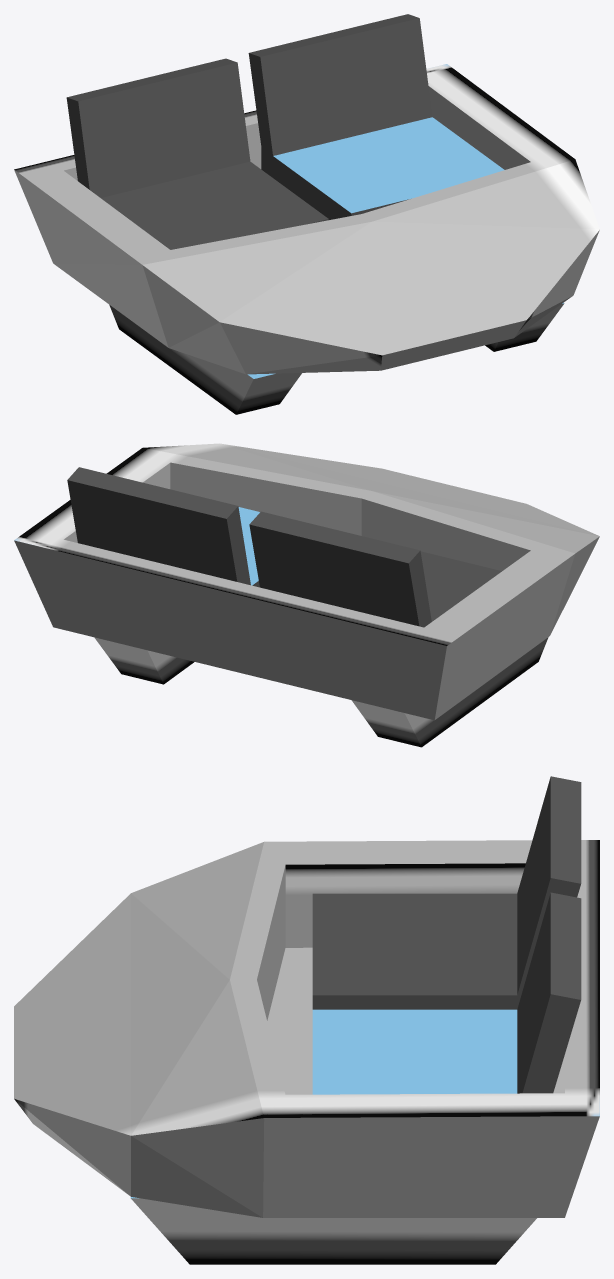
Rendered from coaster_d.obj.
3 renders of one model, top to bottom at view 1: azimuth 30°, elevation 25°; view 2: azimuth 150°, elevation 25°; view 3: azimuth 270°, elevation 25°, orthographic. The views are drawn at different scales.
Visible parts, largest first — view 1: Cube2; view 2: Cube2; view 3: Cube2.
Boxes of the visible parts, left/top/right/bottom form: Cube2: left=14, top=14, right=599, bottom=414; Cube2: left=14, top=443, right=599, bottom=747; Cube2: left=14, top=776, right=599, bottom=1264.
Size of the model in its own units: 2.72 by 1.31 by 2.44.
